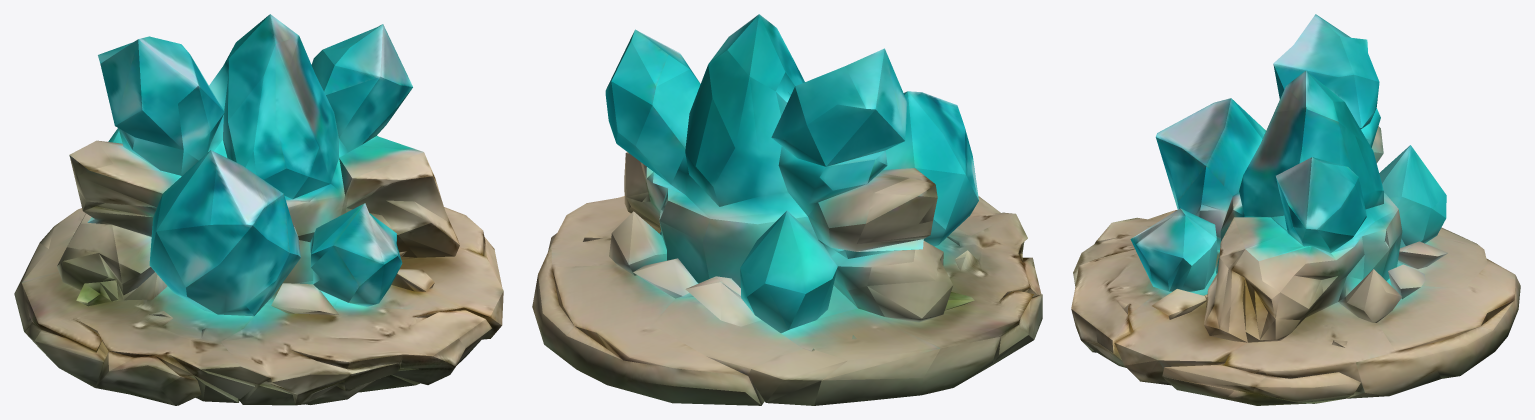
The model's file is magicCrystal.glb.
3 renders of one model, left to right at view 1: azimuth 30°, elevation 25°; view 2: azimuth 150°, elevation 25°; view 3: azimuth 270°, elevation 25°, orthographic. The views are drawn at different scales.
Visible parts, largest first — view 1: model; view 2: model; view 3: model.
Boxes of the visible parts, box(x1,y1,x2,y2) form: model: box(14, 14, 503, 405); model: box(532, 14, 1042, 405); model: box(1071, 14, 1520, 405).
Bounding box in the file's own units: 1.9 × 1.29 × 1.87.
1 material, 1 textured.
